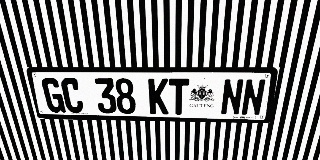3: (94, 78, 117, 114)
8: (114, 78, 136, 114)
C: (60, 78, 84, 113)
G: (40, 78, 66, 113)
K: (148, 78, 168, 114)
N: (240, 79, 267, 116), (220, 79, 244, 116)
T: (169, 78, 189, 115)
